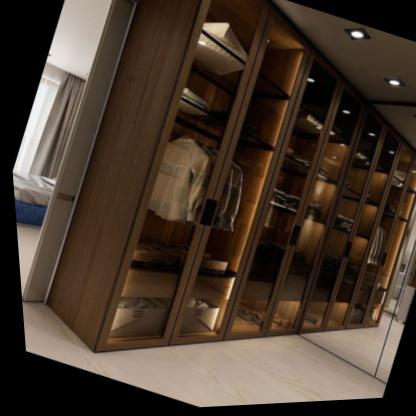Transparent Closet: (86, 0, 416, 352)
